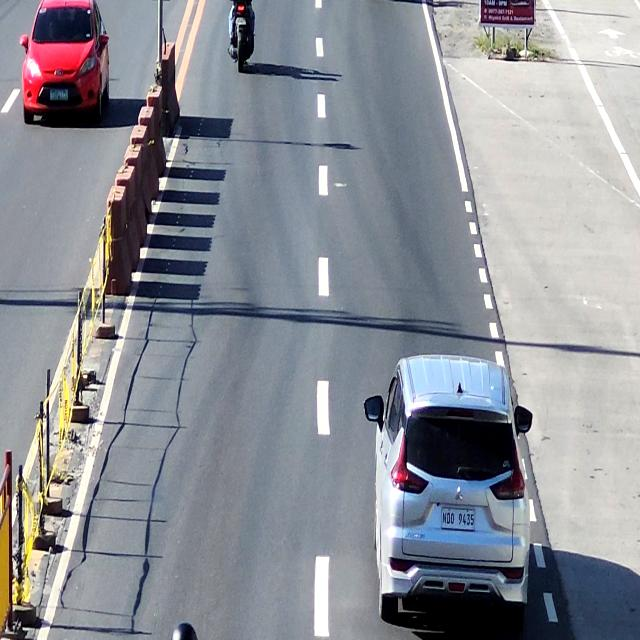Car: (367, 356, 534, 626), (17, 0, 115, 126)
License-Plate: (436, 498, 478, 534), (48, 86, 69, 106), (232, 15, 249, 27)
Motorcycle: (224, 0, 261, 69), (166, 622, 200, 640)
